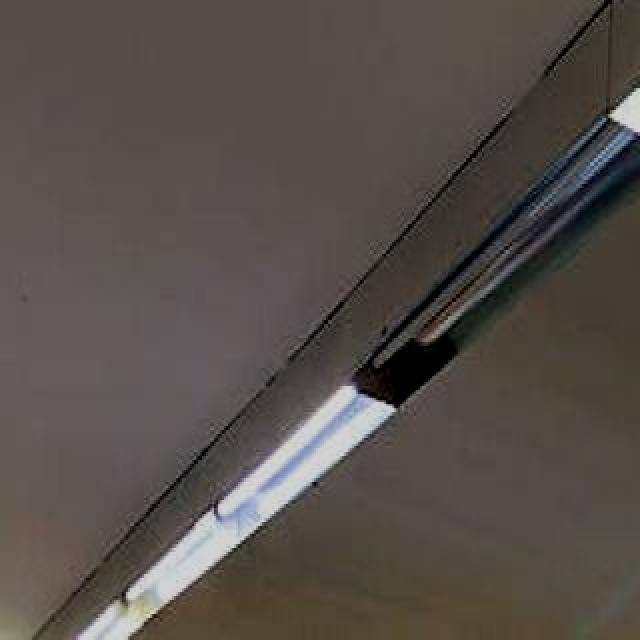fluorescent tube: (360, 112, 640, 390), (213, 378, 375, 535), (118, 505, 235, 622), (622, 0, 640, 128)
